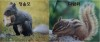chungseolmo: (6, 4, 33, 35)
